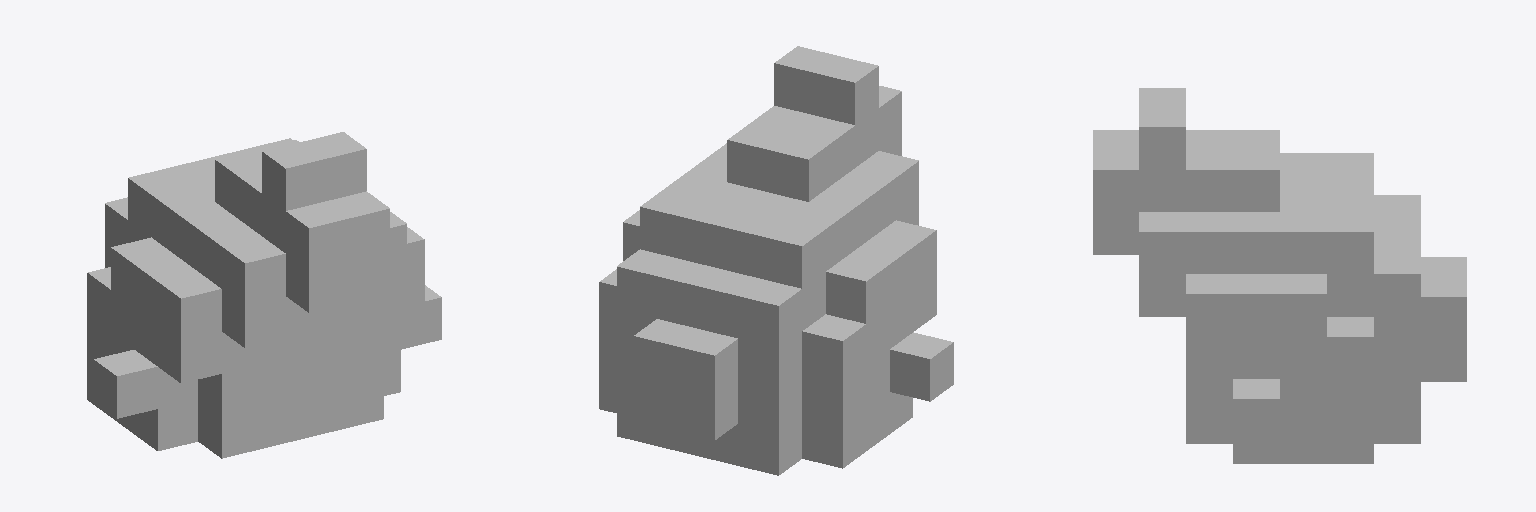
File: Head 12.obj
3 renders of one model, left to right at view 1: azimuth 30°, elevation 25°; view 2: azimuth 150°, elevation 25°; view 3: azimuth 270°, elevation 25°, orthographic.
Size of the model in its own units: 8 by 7 by 8.